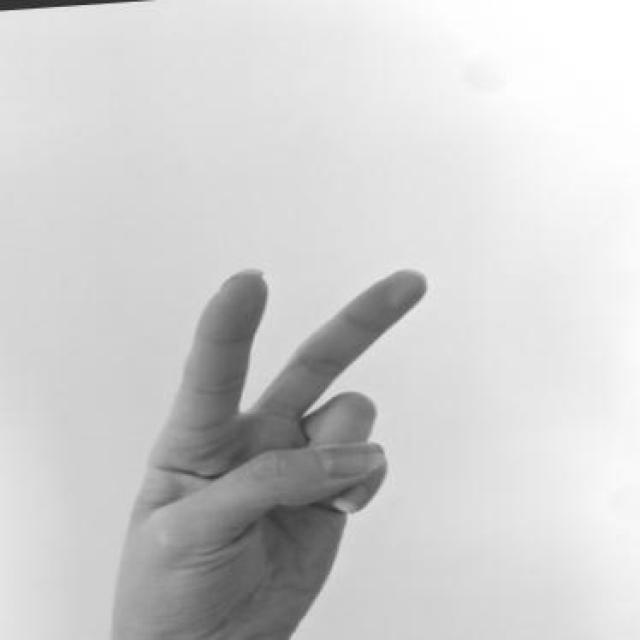V: (80, 252, 462, 638)
